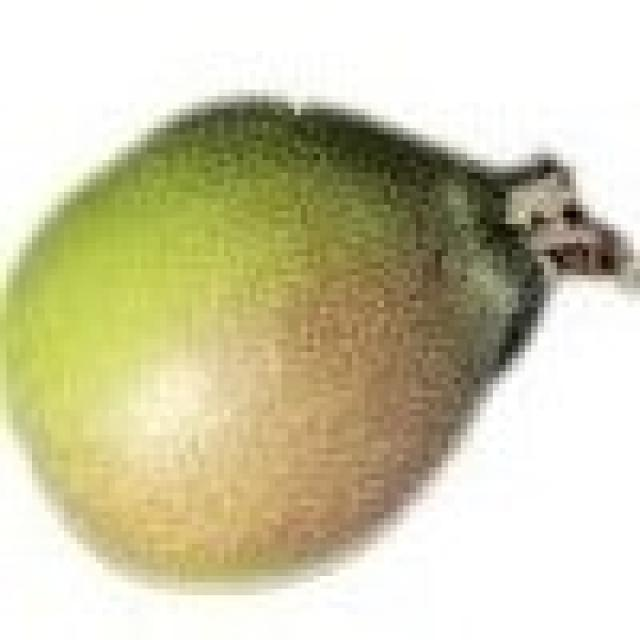20-_ripeness: (4, 91, 634, 593)
